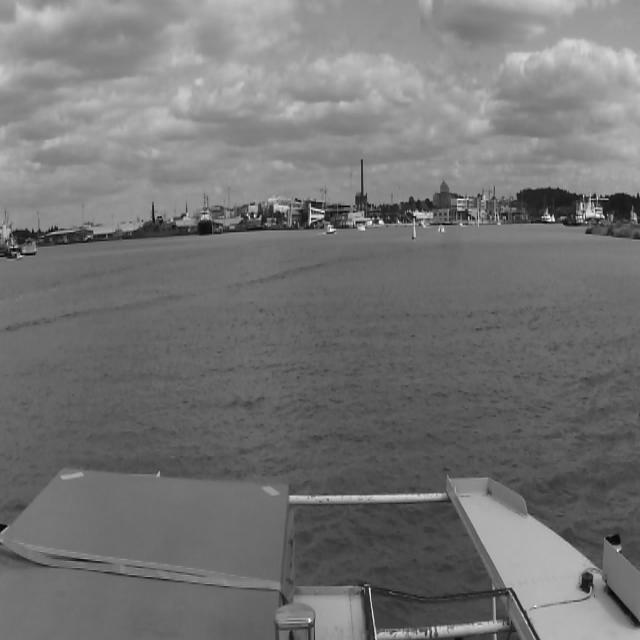buoy: (412, 216, 416, 236)
ship: (125, 215, 193, 239), (564, 194, 600, 226), (198, 193, 212, 235), (324, 220, 336, 237), (356, 220, 366, 234), (438, 223, 444, 232), (440, 221, 444, 231)
